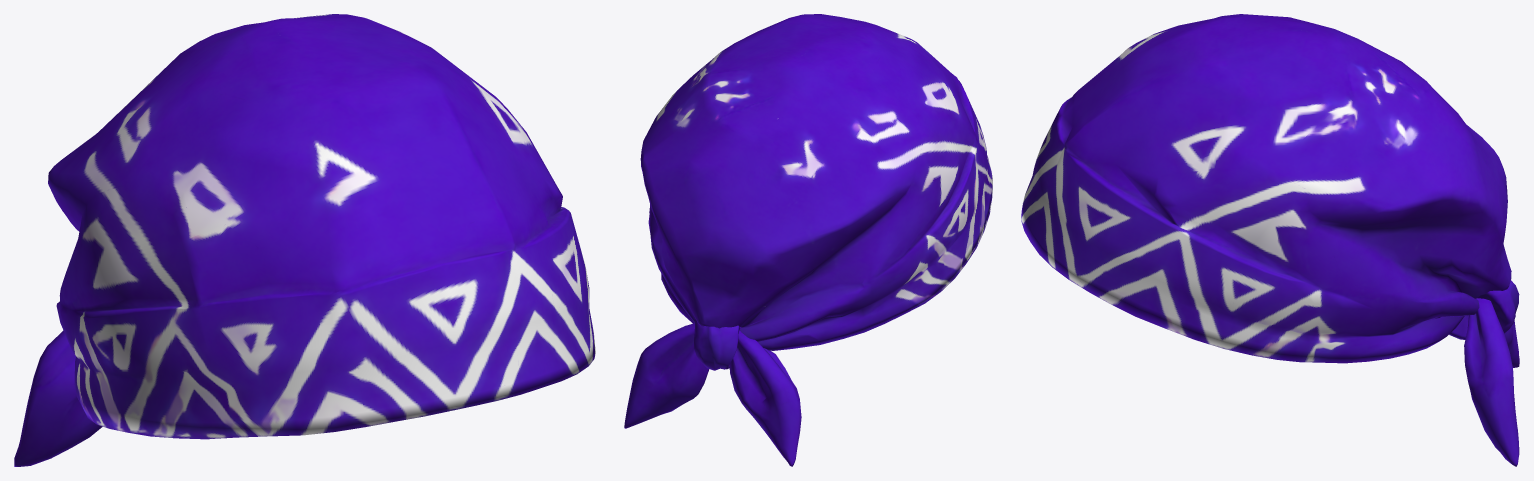
The model's file is street_bandana.glb.
3 views of the same model, side by side, from view 1: azimuth 30°, elevation 25°; view 2: azimuth 150°, elevation 25°; view 3: azimuth 270°, elevation 25° (orthographic). The views are drawn at different scales.
Parts seen in each view (by area): view 1: geometry_0; view 2: geometry_0; view 3: geometry_0.
Part boxes in pixels (bbox=[...]): geometry_0: bbox=[14, 14, 595, 466]; geometry_0: bbox=[624, 14, 992, 466]; geometry_0: bbox=[1021, 14, 1519, 466].
Bounding box in the file's own units: 0.7236 × 0.8135 × 0.9507.
1 material, 1 textured.
